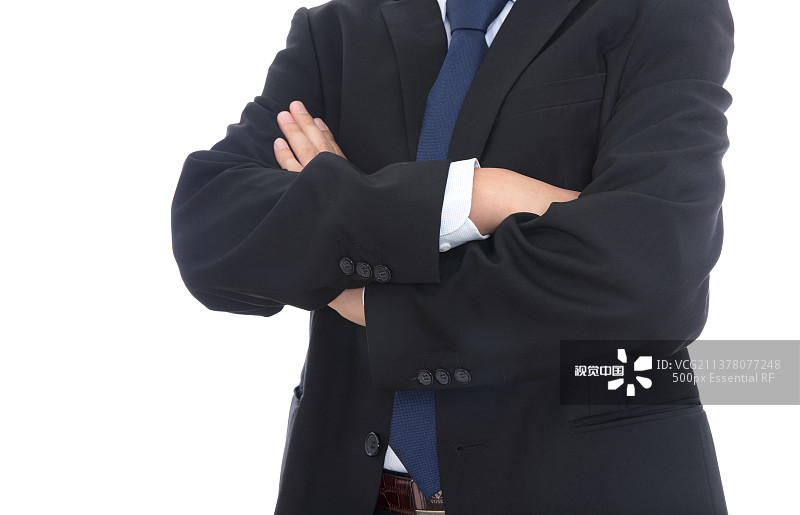no-phone: (257, 92, 389, 336)
